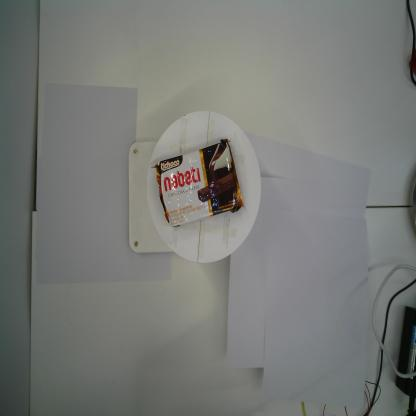Dessert: (148, 135, 246, 232)
